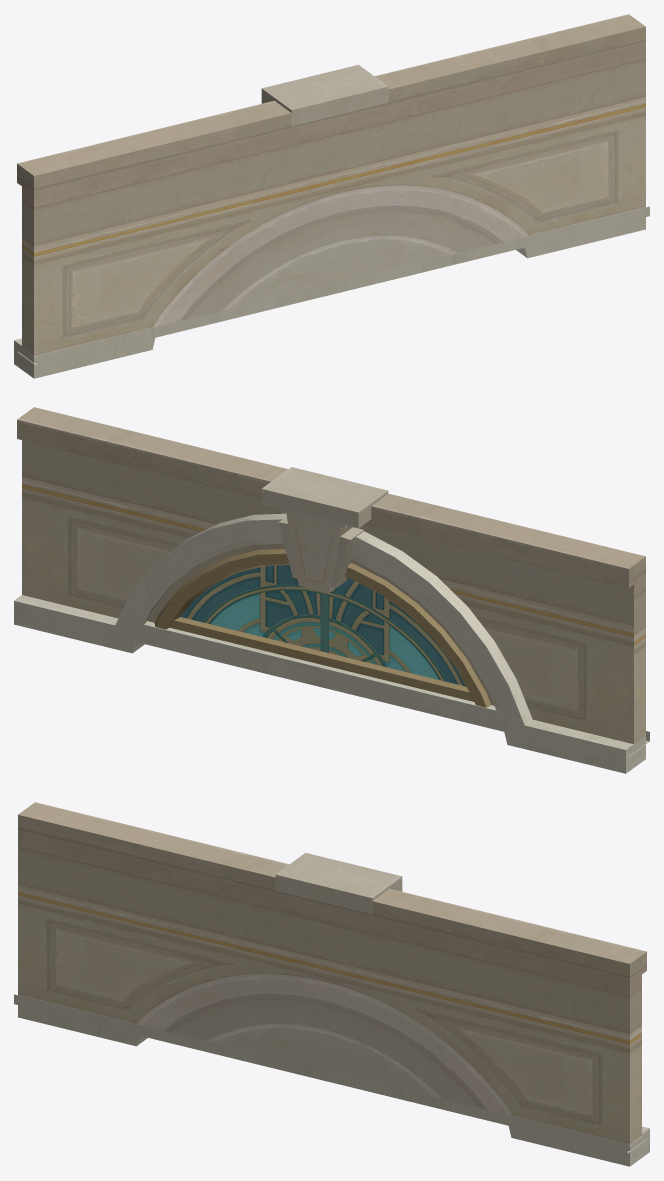
The model's file is Homeworld_Interior_Fd_Room_Door_02_Vo.fbx.
3 views of the same model, one above another, from view 1: azimuth 30°, elevation 25°; view 2: azimuth 150°, elevation 25°; view 3: azimuth 330°, elevation 25° (orthographic).
Parts seen in each view (by area): view 1: Homeworld_Interior_Fd_Room_Door_02_Vo; view 2: Homeworld_Interior_Fd_Room_Door_02_Vo; view 3: Homeworld_Interior_Fd_Room_Door_02_Vo.
Part boxes in pixels (left/top/right/bottom): Homeworld_Interior_Fd_Room_Door_02_Vo: left=14, top=14, right=649, bottom=378; Homeworld_Interior_Fd_Room_Door_02_Vo: left=14, top=407, right=649, bottom=773; Homeworld_Interior_Fd_Room_Door_02_Vo: left=14, top=802, right=649, bottom=1166.
Bounding box in the file's own units: 5.01 × 1.61 × 0.4681.
